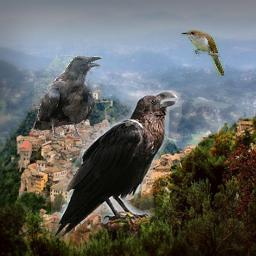Crow: (51, 90, 182, 238), (32, 55, 103, 140)
Cuckoo: (181, 30, 224, 76)
